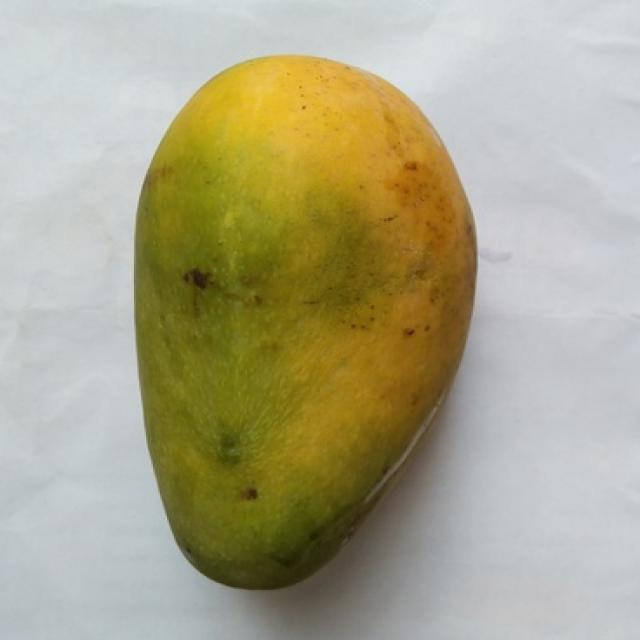Mango: (136, 58, 475, 587)
